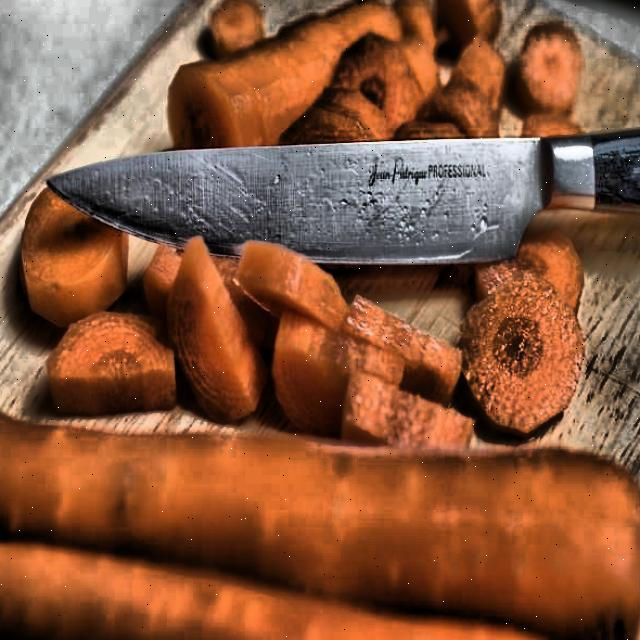knife: (37, 120, 640, 292)
